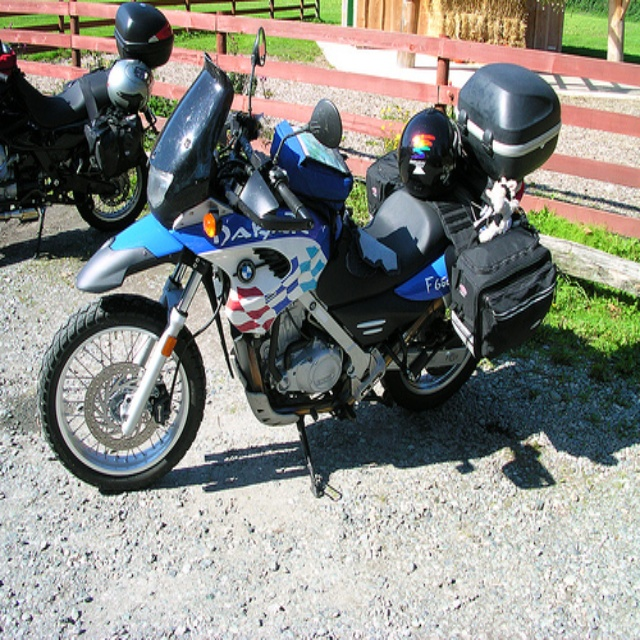Motorcycle: (37, 26, 485, 497), (1, 39, 150, 232)
